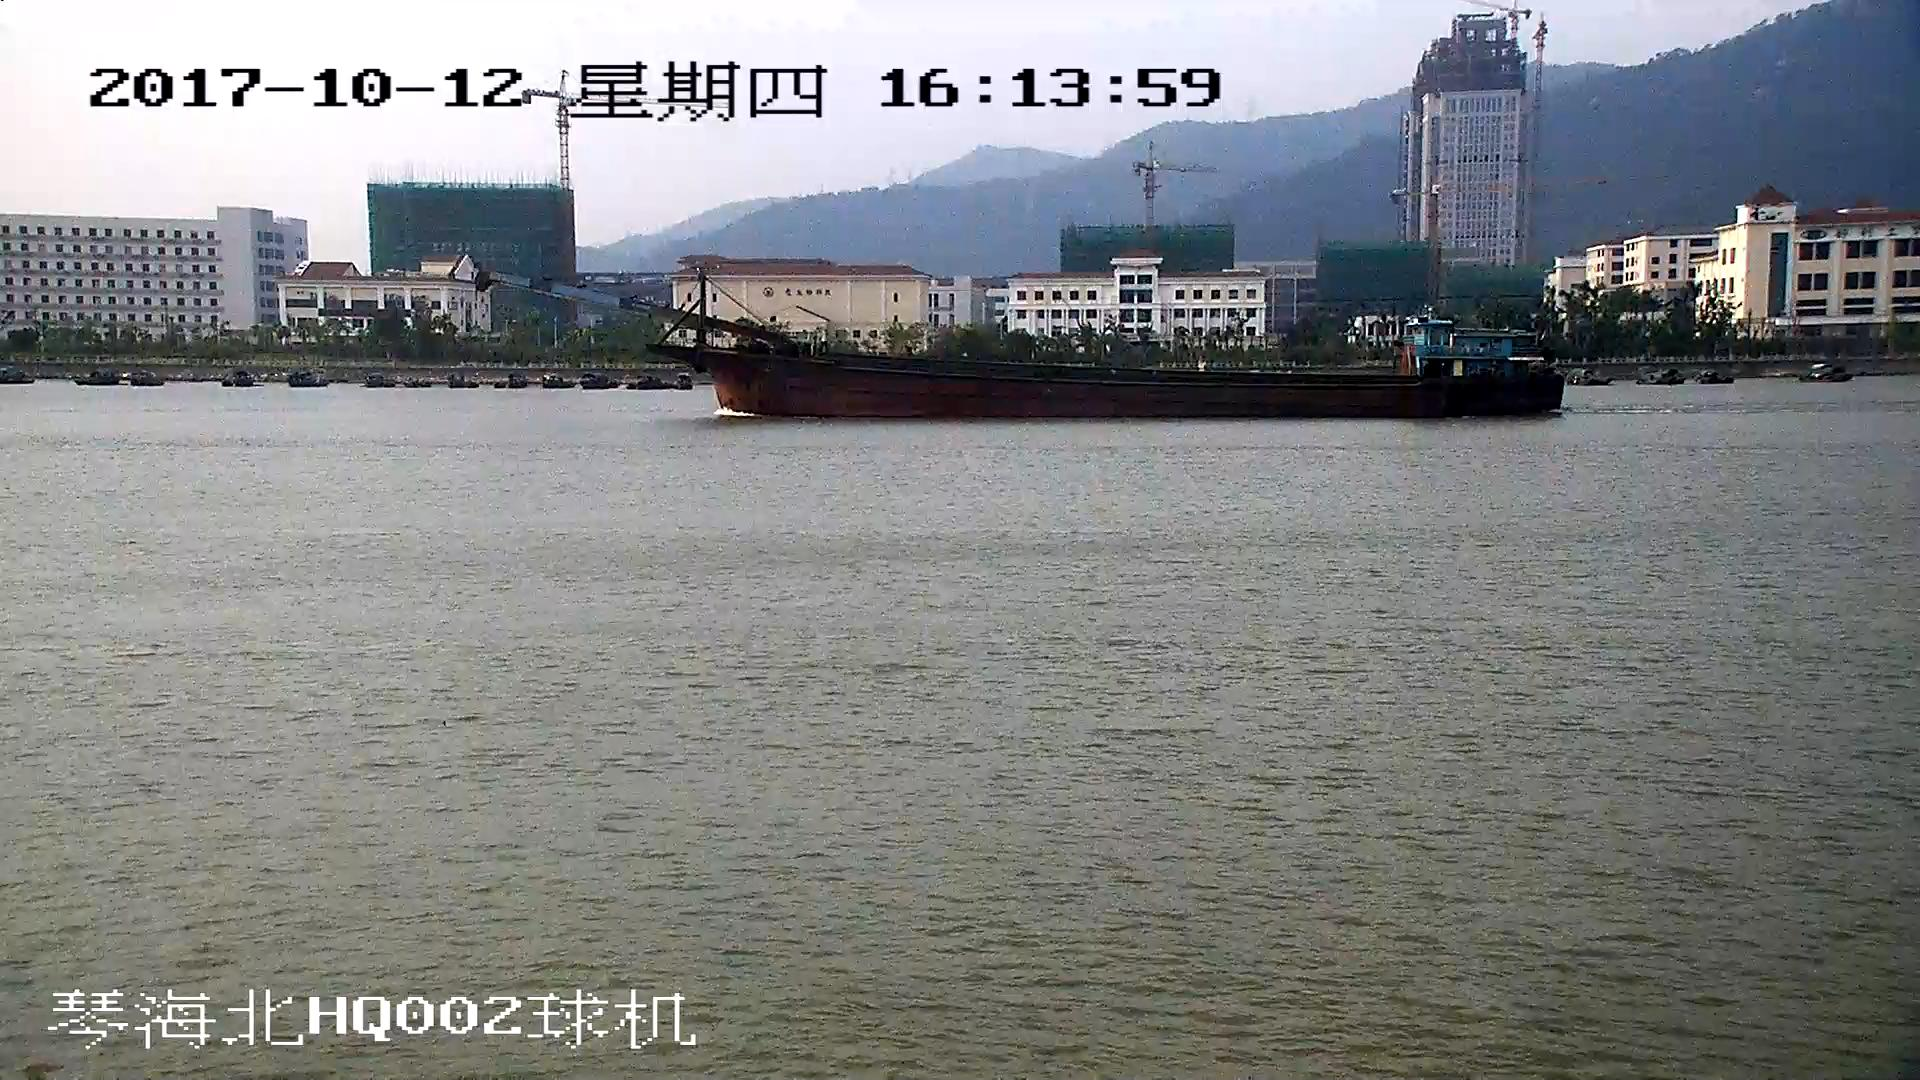bulk cargo carrier: (484, 271, 1564, 417)
